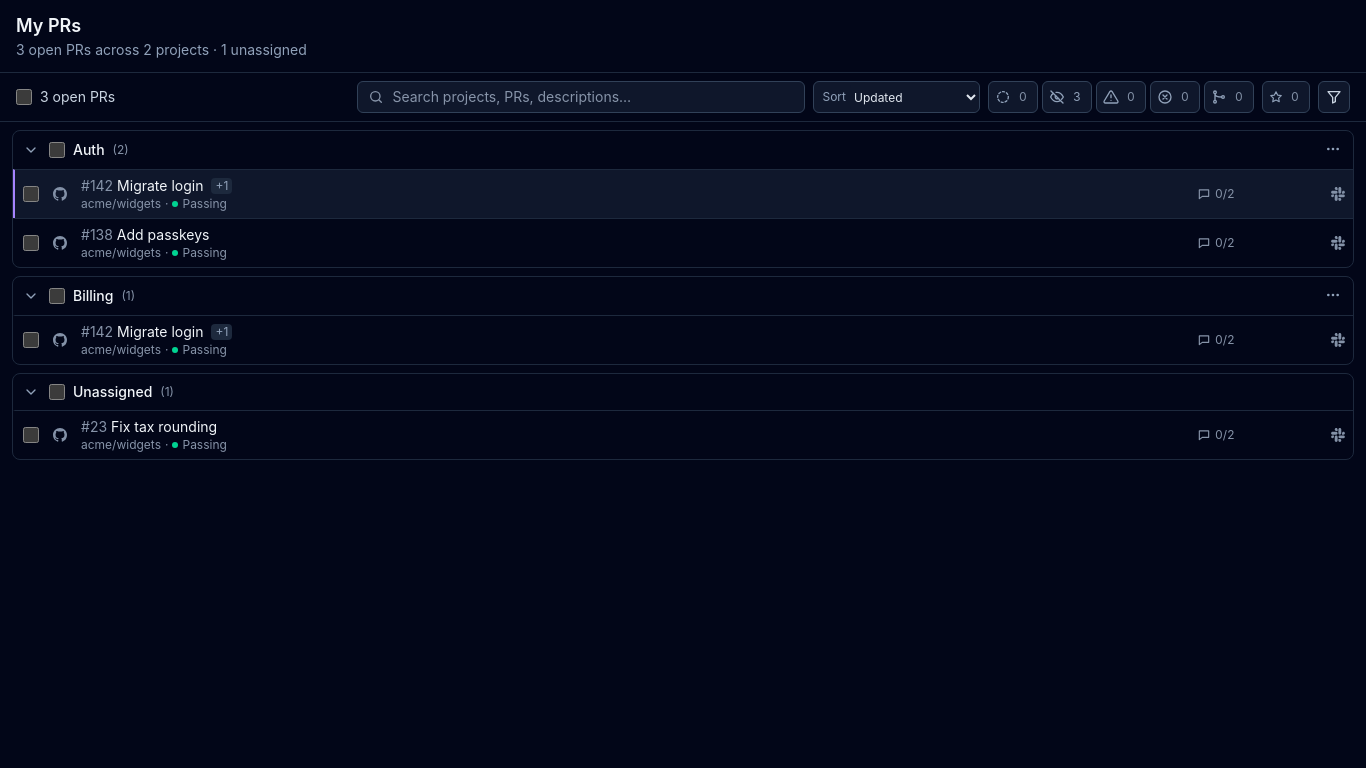
it: search excludes hidden rows from the parent toggle and keeps a hidden selection
Click the checkbox named "Select all" at (24, 97), box [16, 89, 32, 105]
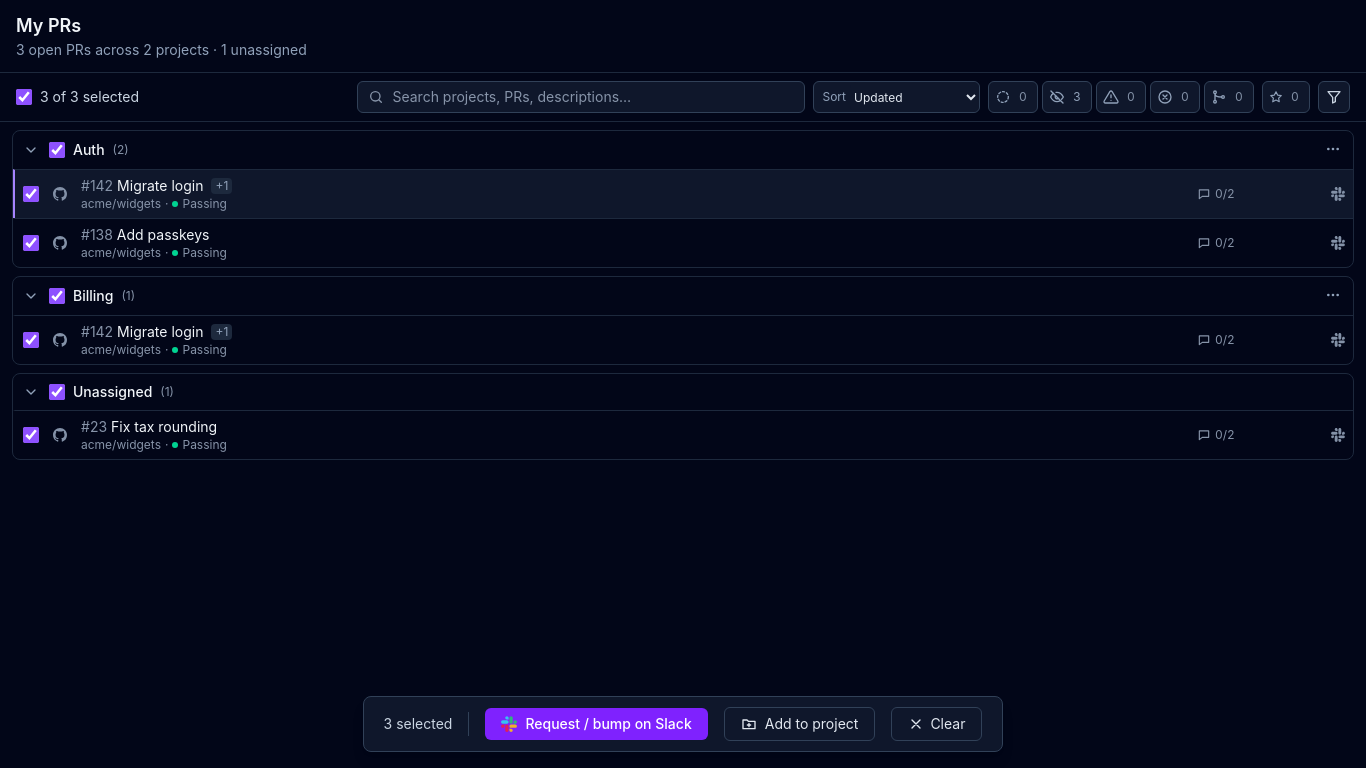
Type "passkeys" into the field labelled "Search" at (594, 97), box [392, 87, 794, 107]
Wait 200 ms
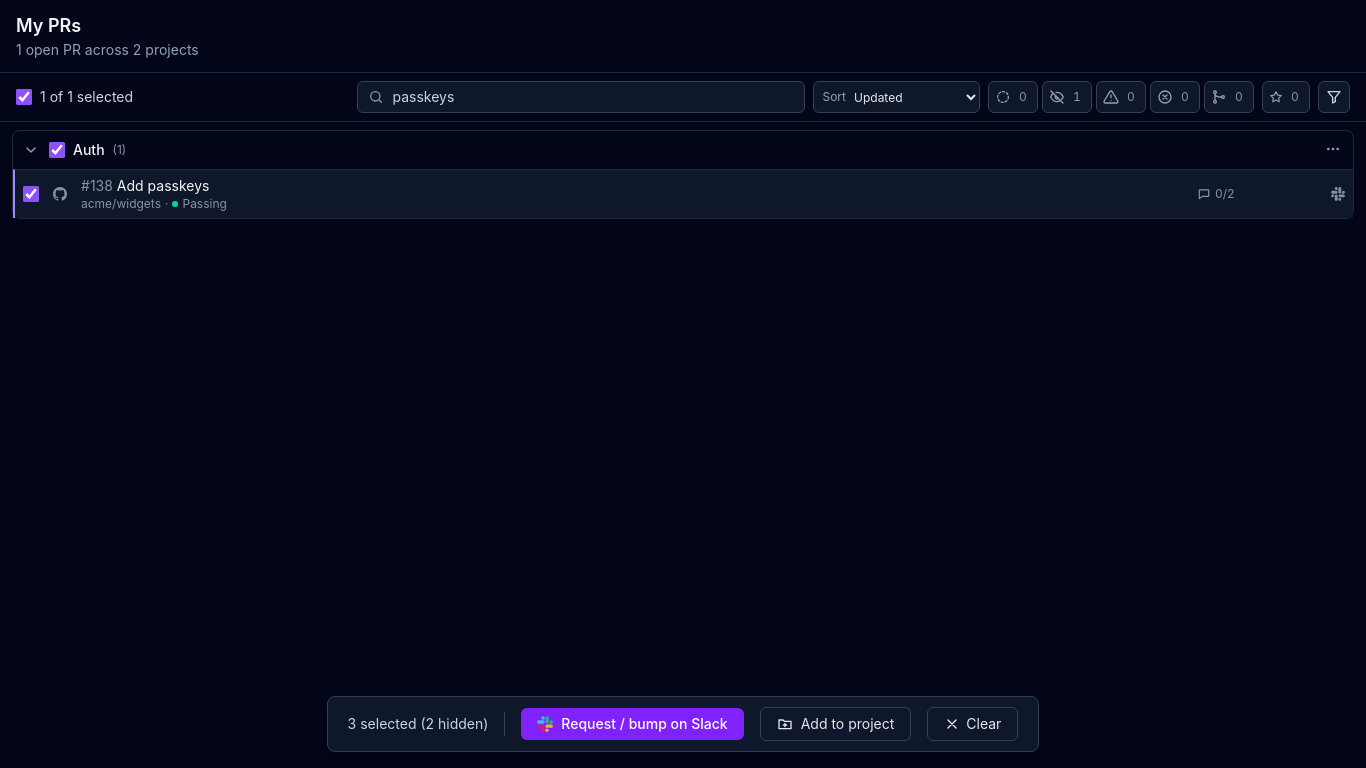
Check: the button "Migrate login" is gone
Check: the text "3 selected (2 hidden)" is shown, box [348, 714, 488, 734]
Click the checkbox named "Select Auth" at (57, 150), box [49, 142, 65, 158]
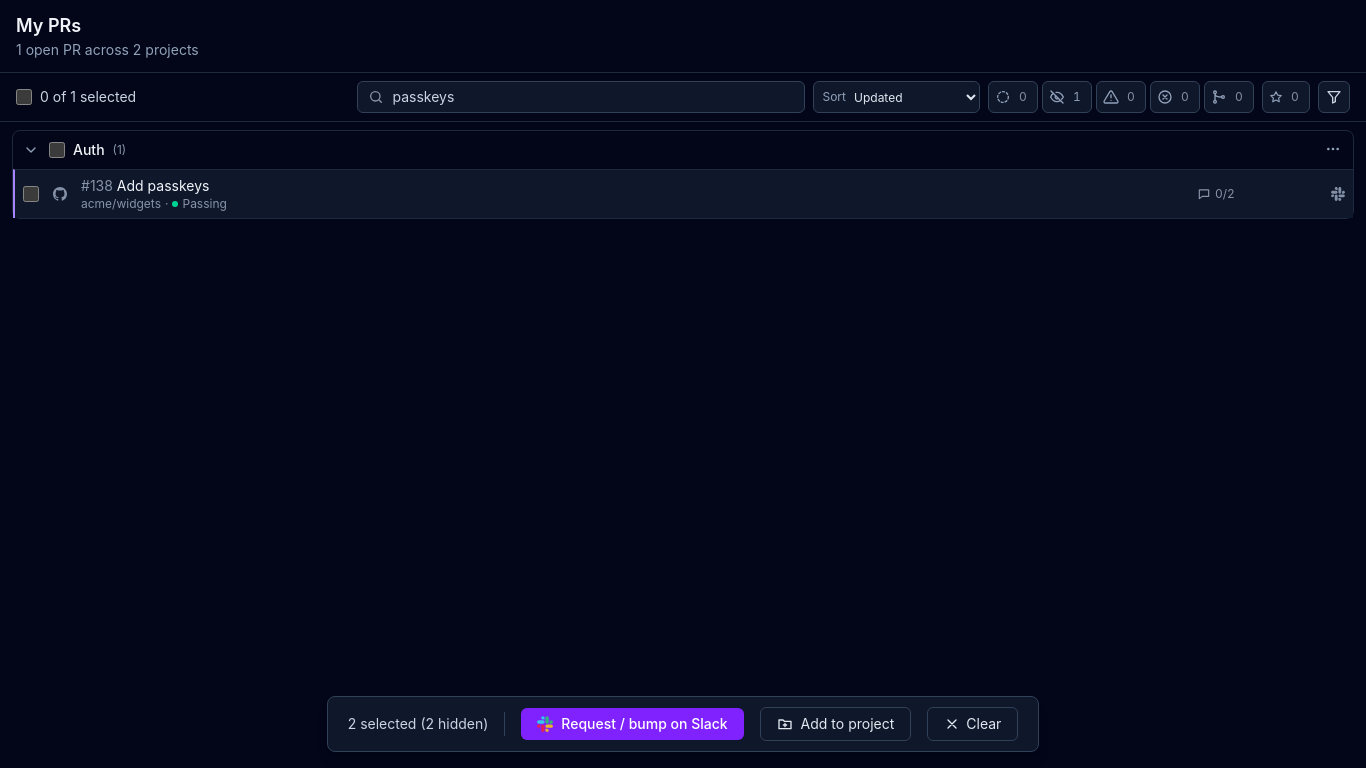
Check: the checkbox named "Select Add passkeys" is not checked, box [23, 186, 39, 202]
Clear the field named "Search" at (594, 97), box [392, 87, 794, 107]
Wait 200 ms
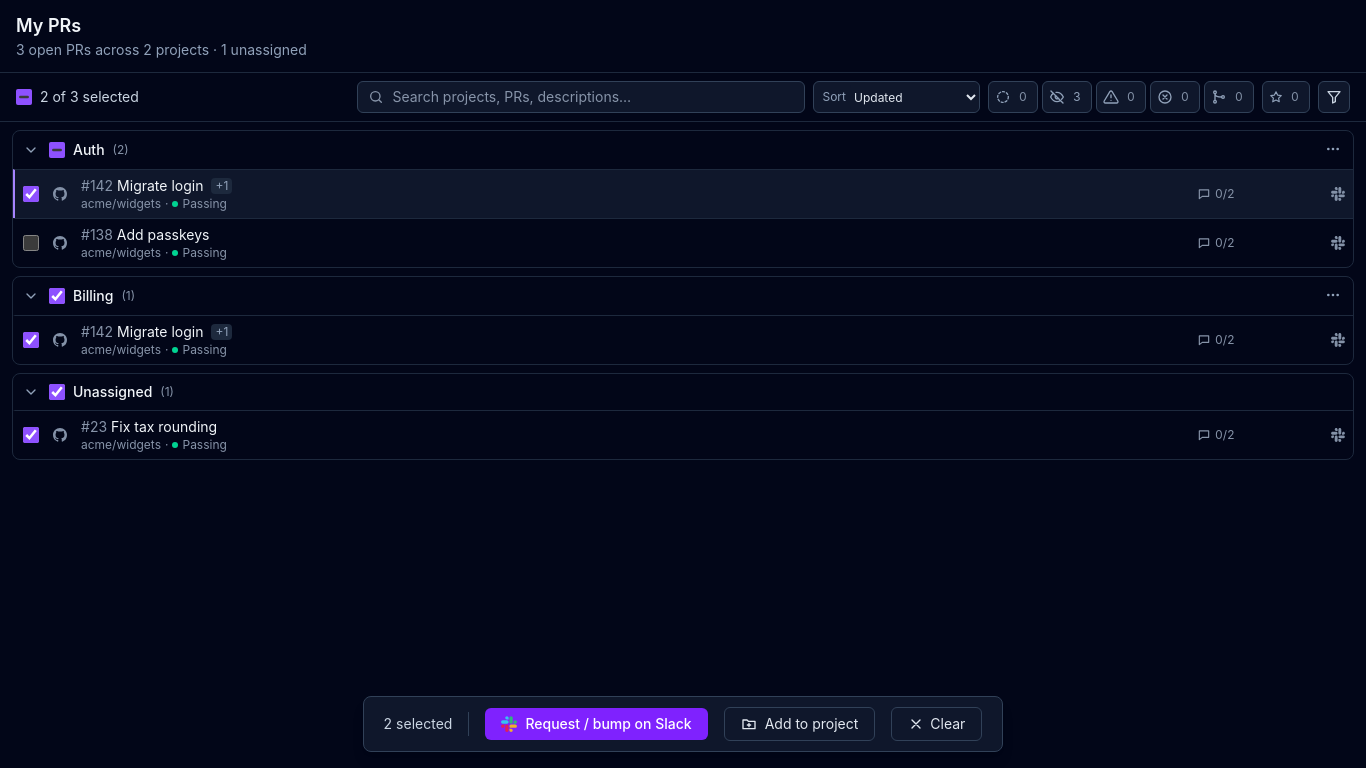
Check: the checkbox named "Select Add passkeys" is not checked, box [23, 235, 39, 251]
Check: the checkbox named "Select Migrate login" below "Auth" is checked, box [23, 186, 39, 202]
